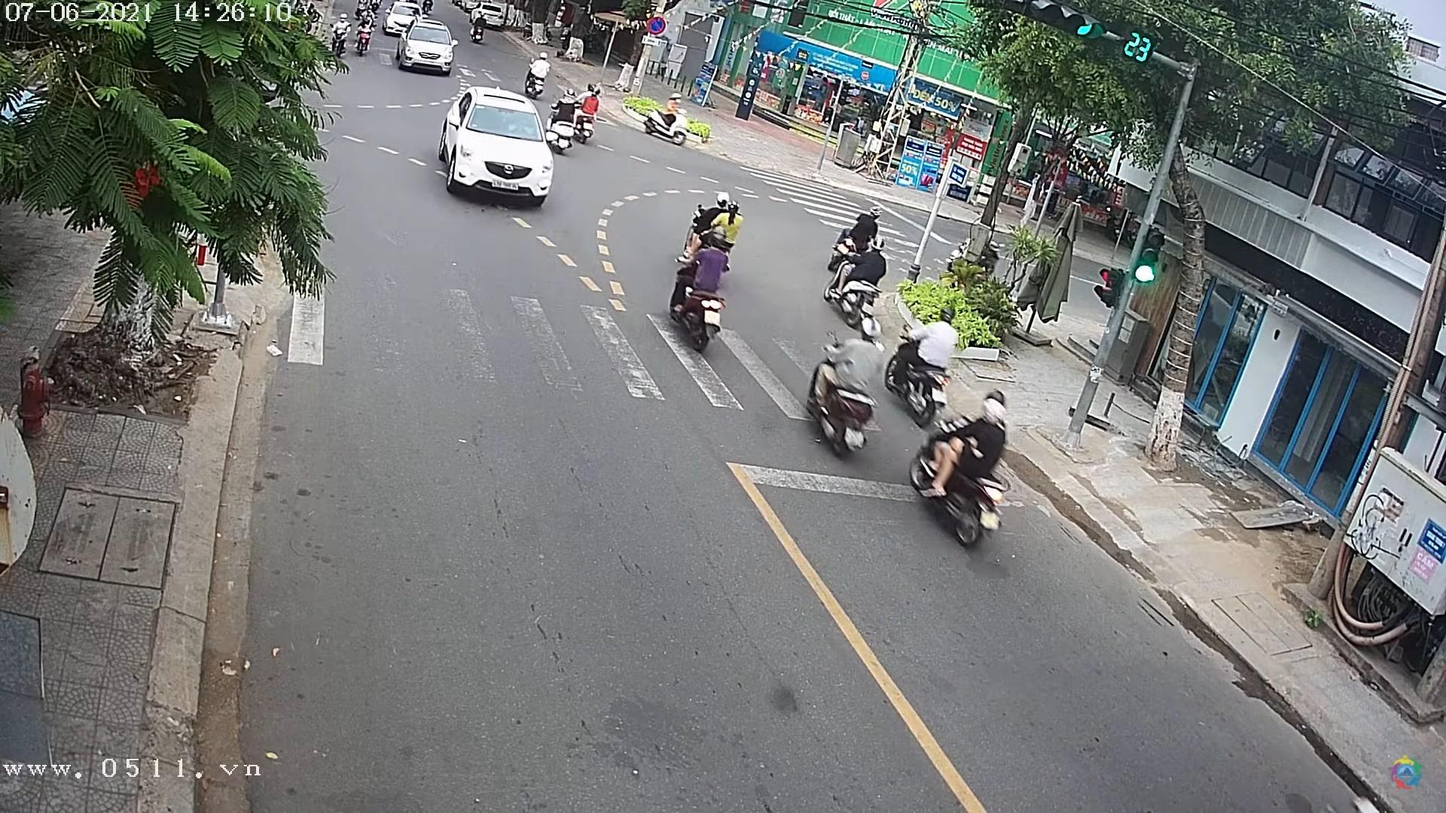car: (438, 91, 563, 209), (393, 21, 457, 77)
motorbike: (355, 23, 374, 57)
